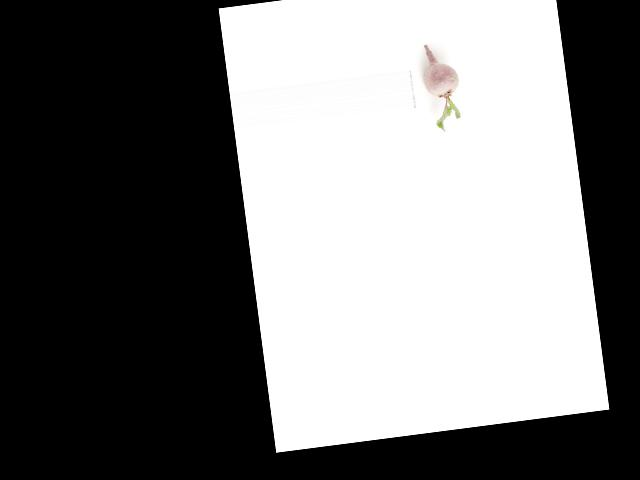beet: (419, 42, 464, 133)
